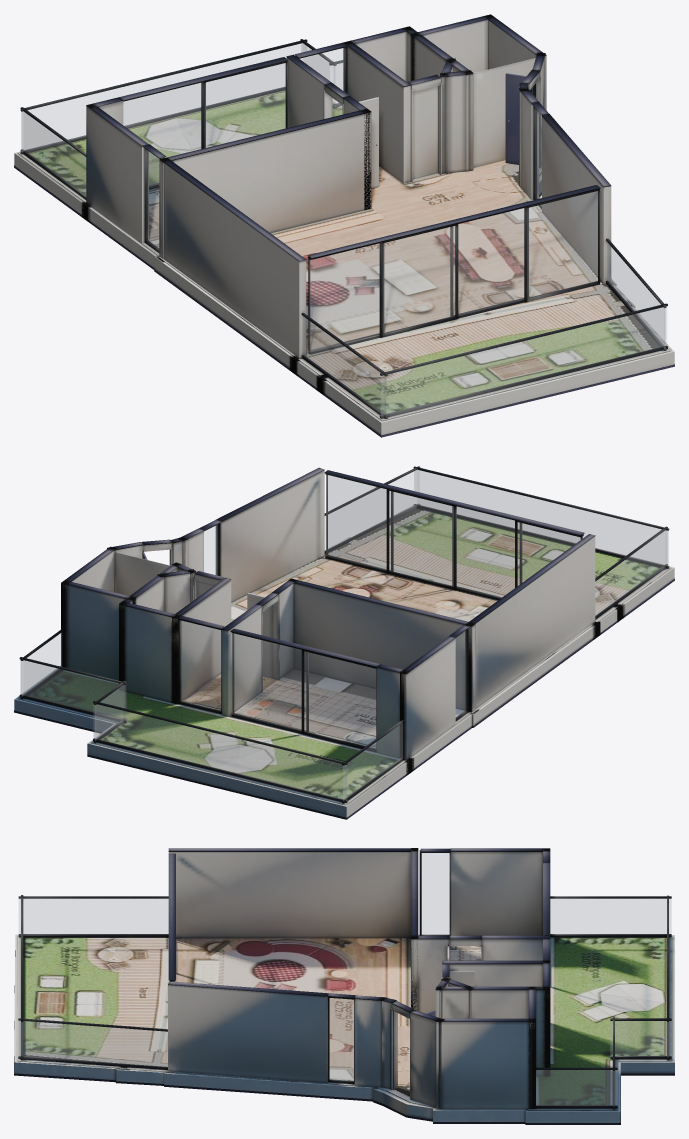
3 renders of one model, top to bottom at view 1: azimuth 30°, elevation 25°; view 2: azimuth 150°, elevation 25°; view 3: azimuth 270°, elevation 25°, orthographic. The views are drawn at different scales.
Visible parts, largest first — view 1: plan, glass4_m, railg2_m, glass0_m, railg0_m, railg6_m, railg5_m, railg7_m, glass2_m, glass1_m; view 2: plan, glass4_m, glass0_m, railg0_m, railg2_m, glass1_m, railg1_m, railg7_m, railg6_m, railg5_m, railg3_m, railg4_m (+2 smaller); view 3: plan, railg7_m, railg6_m, railg5_m, railg3_m, glass2_m, railg4_m, glass3_m.
Part boxes in pixels (<box>): plan: <box>14,14,674,437</box>; glass4_m: <box>309,191,597,351</box>; railg2_m: <box>381,307,666,415</box>; glass0_m: <box>123,63,285,186</box>; railg0_m: <box>21,43,306,151</box>; railg6_m: <box>303,316,386,415</box>; railg5_m: <box>22,112,85,195</box>; railg7_m: <box>607,242,665,347</box>; glass2_m: <box>146,150,158,248</box>; glass1_m: <box>300,48,344,116</box>; plan: <box>14,466,674,819</box>; glass4_m: <box>326,475,580,597</box>; glass0_m: <box>232,633,375,748</box>; railg0_m: <box>93,704,346,799</box>; railg2_m: <box>414,470,668,565</box>; glass1_m: <box>180,621,220,711</box>; railg1_m: <box>20,660,126,719</box>; railg7_m: <box>325,470,418,550</box>; railg6_m: <box>595,531,666,615</box>; railg5_m: <box>343,723,402,800</box>; railg3_m: <box>21,633,61,695</box>; railg4_m: <box>95,685,124,739</box>; plan: <box>14,848,674,1124</box>; railg7_m: <box>19,1021,167,1066</box>; railg6_m: <box>19,899,168,934</box>; railg5_m: <box>550,899,671,934</box>; railg3_m: <box>536,1070,617,1105</box>; glass2_m: <box>422,853,449,934</box>; railg4_m: <box>610,1021,671,1056</box>; glass3_m: <box>329,998,353,1081</box>.
Bounding box in the file's own units: 9.89 × 2.62 × 15.57.
2 materials, 1 textured.
